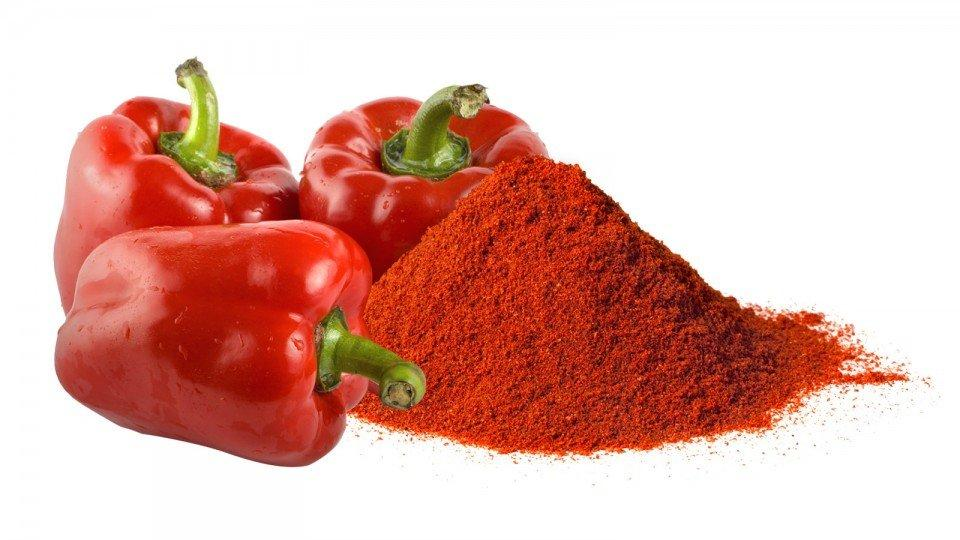paprika: (339, 152, 930, 459), (53, 217, 426, 467), (52, 55, 299, 316), (297, 81, 549, 280)
